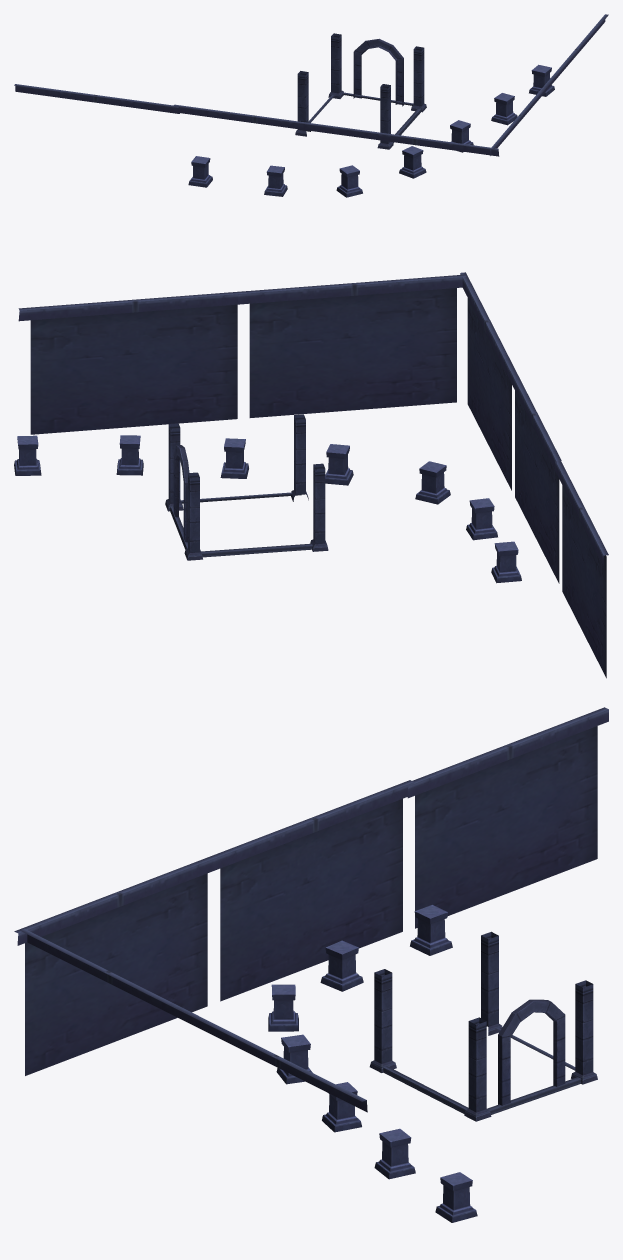
File: Area06_9.fbx
3 views of the same model, one above another, from view 1: azimuth 30°, elevation 25°; view 2: azimuth 150°, elevation 25°; view 3: azimuth 270°, elevation 25° (orthographic). The views are drawn at different scales.
Parts seen in each view (by area): view 1: Area06_9; view 2: Area06_9; view 3: Area06_9.
Boxes of the visible parts, x1,y1,x2,y2 form: Area06_9: (14, 14, 608, 197); Area06_9: (14, 272, 608, 678); Area06_9: (14, 707, 608, 1222).
Bounding box in the file's own units: 5142 × 909 × 3264.
